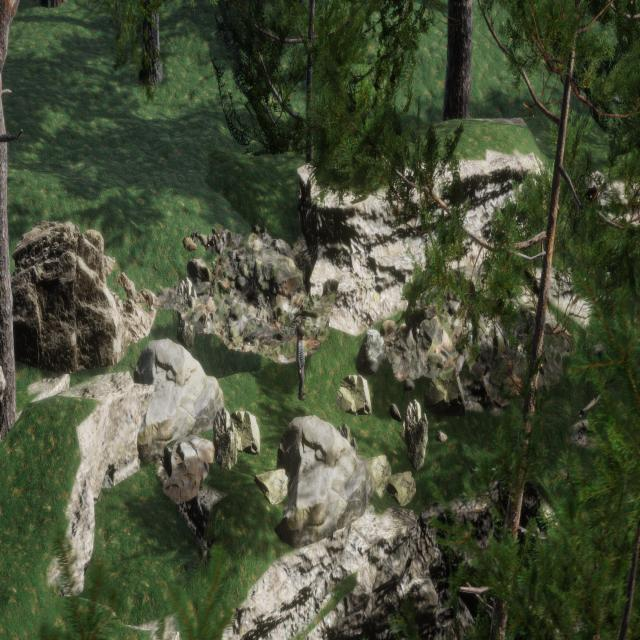Human: (291, 318, 312, 406)
